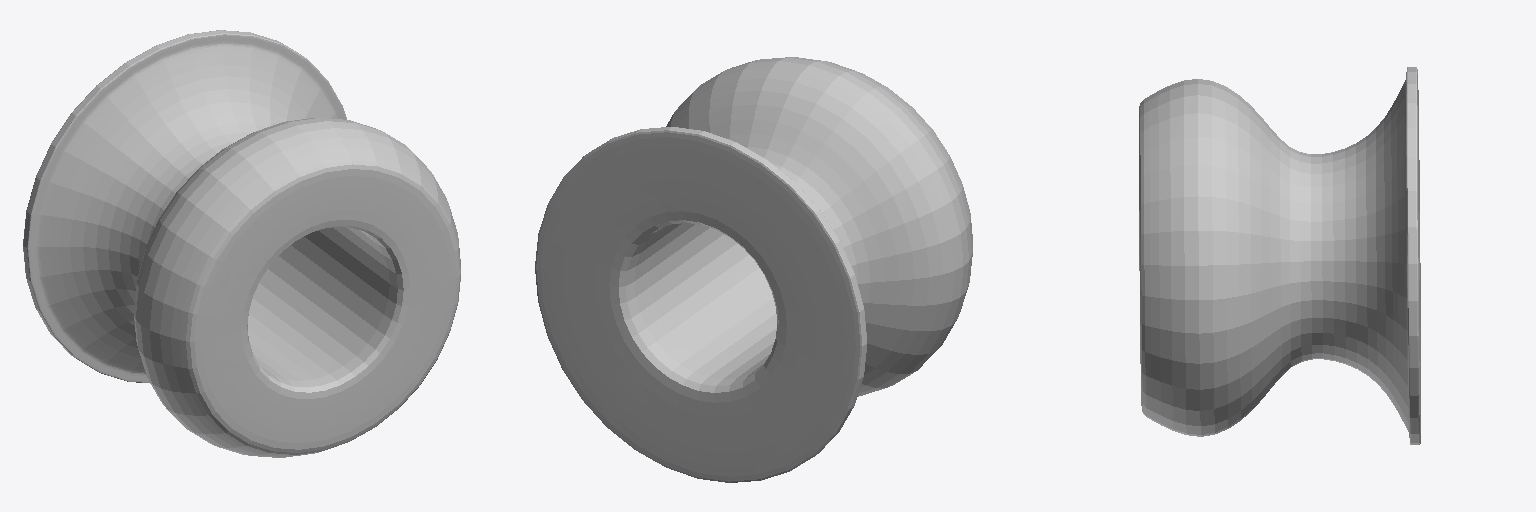
File: S_jack.obj
The picture shows the model from 3 angles: view 1: azimuth 30°, elevation 25°; view 2: azimuth 150°, elevation 25°; view 3: azimuth 270°, elevation 25°; orthographic projection.
Visible parts, largest first — view 1: jack; view 2: jack; view 3: jack.
Part boxes in pixels (bbox=[...]): jack: bbox=[23, 30, 460, 457]; jack: bbox=[535, 57, 972, 482]; jack: bbox=[1139, 67, 1420, 444].
Bounding box in the file's own units: 0.013 × 0.013 × 0.0097.